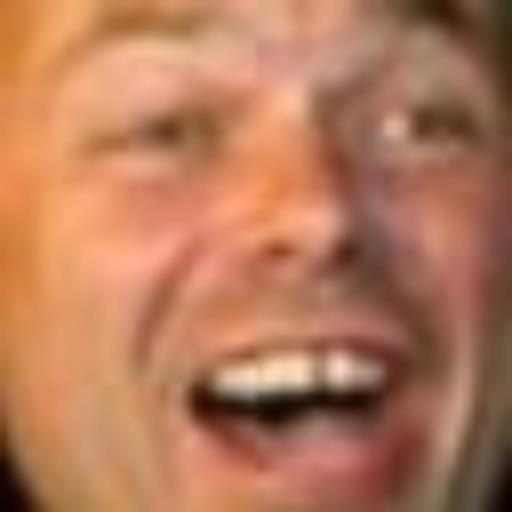left_eye: (80, 102, 211, 167)
right_eye: (360, 102, 488, 161)
right_lip_corner: (168, 362, 214, 428)
